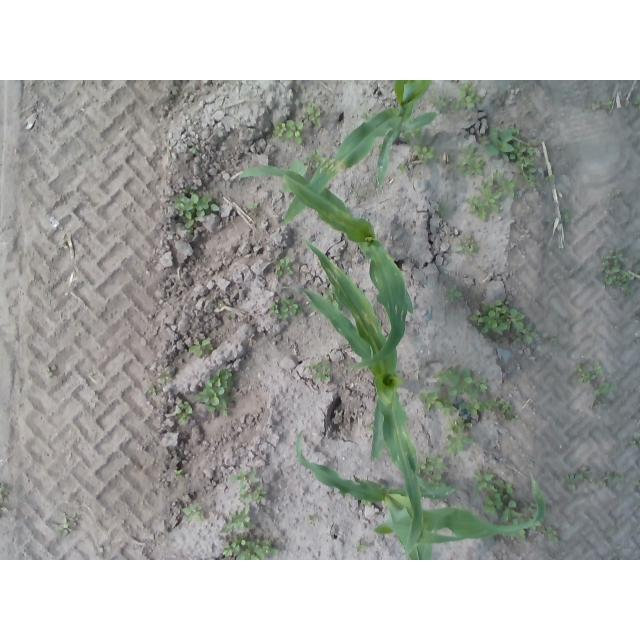Maize: (303, 238, 425, 559), (237, 158, 416, 367), (296, 430, 548, 560), (282, 81, 437, 224)
Weeds: (418, 362, 515, 458), (470, 298, 538, 343), (475, 468, 528, 523), (221, 509, 275, 560), (464, 173, 516, 223), (573, 359, 617, 413), (174, 185, 220, 233), (194, 370, 235, 419), (604, 247, 640, 296), (513, 127, 539, 187), (229, 470, 268, 507), (456, 142, 486, 178), (484, 128, 514, 163), (565, 463, 591, 497), (456, 229, 484, 259), (456, 84, 484, 113), (273, 118, 303, 144), (268, 296, 300, 320), (421, 456, 448, 484), (182, 501, 208, 526), (51, 515, 78, 538), (188, 337, 216, 359), (411, 144, 437, 167), (302, 104, 324, 129), (309, 360, 331, 384), (601, 470, 622, 493), (274, 255, 294, 278), (176, 399, 193, 425), (305, 151, 327, 170), (0, 483, 12, 515), (542, 526, 560, 542), (446, 286, 462, 304), (436, 93, 451, 112), (356, 540, 374, 555), (588, 101, 617, 110), (405, 131, 425, 144), (630, 428, 640, 452), (562, 205, 574, 224), (395, 162, 412, 174), (436, 201, 448, 218), (608, 191, 622, 205), (157, 371, 174, 382), (545, 173, 560, 185), (248, 200, 261, 213), (46, 365, 58, 379), (151, 385, 161, 398), (58, 240, 70, 250), (174, 467, 186, 477), (361, 111, 371, 122), (226, 313, 236, 324), (213, 300, 225, 309), (309, 513, 320, 522), (188, 146, 199, 155), (517, 530, 527, 538), (633, 95, 640, 106), (549, 338, 559, 345)
